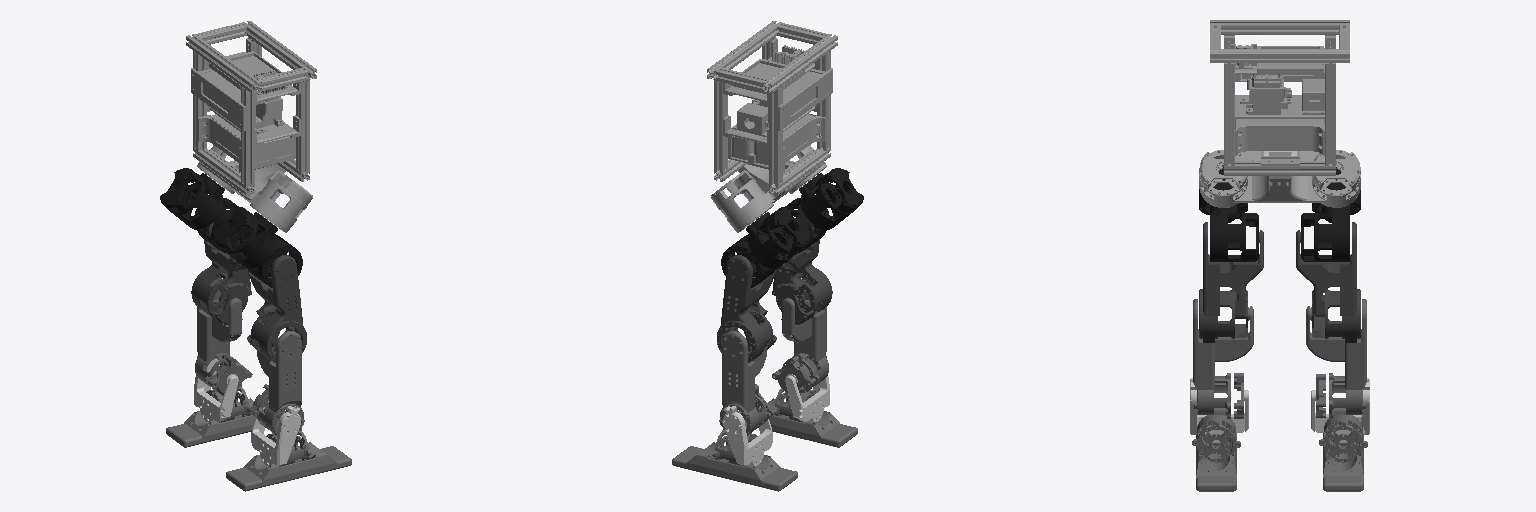
URDF robot description (asmr2026_humanoid):
<?xml version="1.0"?>
<!-- Generated from asmr2026_humanoid.xml by convert_mjcf_to_urdf.py; do not edit. -->
<robot name="asmr2026_humanoid">
  <link name="base">
    <inertial>
      <origin xyz="-0.00352083 -0.00175681 0.66599" rpy="0 0 0" />
      <mass value="5.56725" />
      <inertia ixx="0.0670575" ixy="0.0001353" ixz="0.00148856" iyy="0.0494878" iyz="0.000419932" izz="0.0318557" />
    </inertial>
    <visual name="base_visual">
      <origin xyz="-0.00352083 -0.00175681 0.66599" rpy="0 0 1.57079633" />
      <geometry>
        <mesh filename="../meshes/base_visual.stl" />
      </geometry>
      <material name="base_visual_material">
        <color rgba="0.63235 0.63235 0.63235 1" />
      </material>
    </visual>
    <collision name="base_collision">
      <origin xyz="-0.00106123 -0.00754197 0.668952" rpy="-1.46361453 -1.45495904 -1.67426089" />
      <geometry>
        <box size="0.356102 0.301806 0.1469466" />
      </geometry>
    </collision>
  </link>
  <link name="imu_2">
    <inertial>
      <origin xyz="-0 -0 -0.0054068" rpy="0 0 0" />
      <mass value="0.046" />
      <inertia ixx="9.00897e-06" ixy="0" ixz="-0" iyy="1.05324e-05" iyz="0" izz="1.84346e-05" />
    </inertial>
    <visual name="imu_2_visual">
      <origin xyz="-0 0 -0.0054068" rpy="3.14159265 0 0" />
      <geometry>
        <mesh filename="../meshes/imu_2_visual.stl" />
      </geometry>
      <material name="imu_2_visual_material">
        <color rgba="0.8 0.8 0.8 1" />
      </material>
    </visual>
    <collision name="imu_2_collision">
      <origin xyz="1.47744e-06 5.13569e-07 -0.00599793" rpy="3.1414501 0.00039223857 3.12754523" />
      <geometry>
        <box size="0.060642 0.0478248 0.01202582" />
      </geometry>
    </collision>
  </link>
  <joint name="imu_2_fixed" type="fixed">
    <origin xyz="0.0191473 0.00075234 0.6168" rpy="-3.14159265 0 1.57079633" />
    <parent link="base" />
    <child link="imu_2" />
  </joint>
  <link name="leg_left_hip_roll">
    <inertial>
      <origin xyz="-0.00722021 -0.000256929 -0.0500812" rpy="0 0 0" />
      <mass value="0.610295" />
      <inertia ixx="0.00055326" ixy="3.53433e-06" ixz="-5.44196e-06" iyy="0.000604619" iyz="-2.94674e-06" izz="0.000546565" />
    </inertial>
    <visual name="leg_left_hip_roll_visual">
      <origin xyz="-0.00722021 -0.000256929 -0.0500812" rpy="-0.785398555 0 1.57079633" />
      <geometry>
        <mesh filename="../meshes/leg_left_hip_roll_visual.stl" />
      </geometry>
      <material name="leg_left_hip_roll_visual_material">
        <color rgba="0.157238 0.157238 0.157238 1" />
      </material>
    </visual>
    <collision name="leg_left_hip_roll_collision">
      <origin xyz="-0.0160418 0.00196308 -0.0475174" rpy="-1.26191453 1.27692792 -3.0161296" />
      <geometry>
        <box size="0.115147 0.109264 0.0972172" />
      </geometry>
    </collision>
  </link>
  <link name="leg_left_hip_yaw">
    <inertial>
      <origin xyz="-0.00722046 -0.000122518 -0.0499338" rpy="0 0 0" />
      <mass value="0.610295" />
      <inertia ixx="0.00055344" ixy="-1.38532e-06" ixz="-9.78123e-06" iyy="0.000606803" iyz="6.18155e-06" izz="0.00054454" />
    </inertial>
    <visual name="leg_left_hip_yaw_visual">
      <origin xyz="-0.00722046 -0.000122518 -0.0499338" rpy="0.785397007 0 0" />
      <geometry>
        <mesh filename="../meshes/leg_left_hip_yaw_visual.stl" />
      </geometry>
      <material name="leg_left_hip_yaw_visual_material">
        <color rgba="0.157238 0.157238 0.157238 1" />
      </material>
    </visual>
    <collision name="leg_left_hip_yaw_collision">
      <origin xyz="-0.0161405 -0.000935632 -0.0473143" rpy="-1.8929033 1.23438819 2.88480702" />
      <geometry>
        <box size="0.1171476 0.1087042 0.0908802" />
      </geometry>
    </collision>
  </link>
  <link name="leg_left_hip_pitch">
    <inertial>
      <origin xyz="0.00252783 -0.12575 0.0207946" rpy="0 0 0" />
      <mass value="0.807295" />
      <inertia ixx="0.00224206" ixy="-9.98392e-05" ixz="-1.77873e-05" iyy="0.000866208" iyz="-0.000217269" izz="0.00199188" />
    </inertial>
    <visual name="leg_left_hip_pitch_visual">
      <origin xyz="0.00252783 -0.12575 0.0207946" rpy="-1.57079633 1.57079633 0" />
      <geometry>
        <mesh filename="../meshes/leg_left_hip_pitch_visual.stl" />
      </geometry>
      <material name="leg_left_hip_pitch_visual_material">
        <color rgba="0.318052 0.318052 0.318052 1" />
      </material>
    </visual>
    <collision name="leg_left_hip_pitch_collision">
      <origin xyz="0.0024372525 -0.0865321 0.03983735" rpy="-1.51428364 0.0382554422 -0.0361528608" />
      <geometry>
        <cylinder radius="0.0557908" length="0.109294116" />
      </geometry>
    </collision>
  </link>
  <link name="leg_left_knee_pitch">
    <inertial>
      <origin xyz="6.22457e-05 -0.124552 0.0278013" rpy="0 0 0" />
      <mass value="0.57817" />
      <inertia ixx="0.00186301" ixy="-2.9198e-06" ixz="-1.32344e-06" iyy="0.000528282" iyz="6.56245e-05" izz="0.00162163" />
    </inertial>
    <visual name="leg_left_knee_pitch_visual">
      <origin xyz="6.22457e-05 -0.124552 0.0278013" rpy="-1.57079633 1.57079633 0" />
      <geometry>
        <mesh filename="../meshes/leg_left_knee_pitch_visual.stl" />
      </geometry>
      <material name="leg_left_knee_pitch_visual_material">
        <color rgba="0.444297 0.444297 0.444297 1" />
      </material>
    </visual>
    <collision name="leg_left_knee_pitch_collision">
      <origin xyz="0.000413485 -0.0881688 0.03598395" rpy="-1.34754043 0.00179248437 -0.00143113622" />
      <geometry>
        <cylinder radius="0.0690285" length="0.0862367816" />
      </geometry>
    </collision>
  </link>
  <link name="leg_left_ankle_pitch">
    <inertial>
      <origin xyz="0.0141965 0.0452964 0.0278678" rpy="0 0 0" />
      <mass value="0.087" />
      <inertia ixx="0.000198924" ixy="-2.42192e-05" ixz="-1.00666e-05" iyy="0.000125207" iyz="-2.69091e-05" izz="9.87061e-05" />
    </inertial>
    <visual name="leg_left_ankle_pitch_visual">
      <origin xyz="0.0141965 0.0452964 0.0278678" rpy="1.57079633 1.57079633 0" />
      <geometry>
        <mesh filename="../meshes/leg_left_ankle_pitch_visual.stl" />
      </geometry>
      <material name="leg_left_ankle_pitch_visual_material">
        <color rgba="0.8 0.8 0.8 1" />
      </material>
    </visual>
  </link>
  <link name="leg_left_ankle_roll">
    <inertial>
      <origin xyz="0.000136733 -0.0183044 -0.0345478" rpy="0 0 0" />
      <mass value="0.60417" />
      <inertia ixx="0.00162401" ixy="-2.7862e-06" ixz="2.97019e-06" iyy="0.00151979" iyz="-3.38617e-05" izz="0.000543053" />
    </inertial>
    <visual name="leg_left_ankle_roll_visual">
      <origin xyz="0.000136733 -0.0183044 -0.0345478" rpy="1.57079633 0 3.14159265" />
      <geometry>
        <mesh filename="../meshes/leg_left_ankle_roll_visual.stl" />
      </geometry>
      <material name="leg_left_ankle_roll_visual_material">
        <color rgba="0.459604 0.459604 0.459604 1" />
      </material>
    </visual>
    <collision name="left_foot_collision">
      <origin xyz="0 -0.042004 -0.03675" rpy="-1.57079633 1.57079633 0" />
      <geometry>
        <box size="0.22 0.08 0.016" />
      </geometry>
    </collision>
  </link>
  <joint name="leg_left_ankle_roll_joint" type="revolute">
    <origin xyz="0.016 0.075 0.0355" rpy="-3.14159265 -1.57079633 0" />
    <parent link="leg_left_ankle_pitch" />
    <child link="leg_left_ankle_roll" />
    <axis xyz="0 0 1" />
    <limit lower="-0.261799388" upper="0.261799388" effort="22.572" velocity="20.943951" />
  </joint>
  <joint name="leg_left_ankle_pitch_joint" type="revolute">
    <origin xyz="-0 -0.16 -0.003" rpy="0 0 3.14159265" />
    <parent link="leg_left_knee_pitch" />
    <child link="leg_left_ankle_pitch" />
    <axis xyz="0 0 1" />
    <limit lower="-1.04719755" upper="0.523598776" effort="22.572" velocity="20.943951" />
  </joint>
  <joint name="leg_left_knee_pitch_joint" type="revolute">
    <origin xyz="-0 -0.15 -0.018" rpy="-0 0 0" />
    <parent link="leg_left_hip_pitch" />
    <child link="leg_left_knee_pitch" />
    <axis xyz="0 0 1" />
    <limit lower="-2.44346095" upper="0" effort="18.09" velocity="20.943951" />
  </joint>
  <joint name="leg_left_hip_pitch_joint" type="revolute">
    <origin xyz="0.027 0 -0.052" rpy="1.57079633 0.785397772 -1.57079633" />
    <parent link="leg_left_hip_yaw" />
    <child link="leg_left_hip_pitch" />
    <axis xyz="0 0 1" />
    <limit lower="-0.981747704" upper="1.89804556" effort="18.09" velocity="20.943951" />
  </joint>
  <joint name="leg_left_hip_yaw_joint" type="revolute">
    <origin xyz="0.027 0 -0.052" rpy="-1.57079633 0 1.57079633" />
    <parent link="leg_left_hip_roll" />
    <child link="leg_left_hip_yaw" />
    <axis xyz="0 0 1" />
    <limit lower="-0.589048623" upper="0.981747704" effort="18.09" velocity="20.943951" />
  </joint>
  <joint name="leg_left_hip_roll_joint" type="revolute">
    <origin xyz="-0.0234602 0.1 0.531785" rpy="0 0.785398555 0" />
    <parent link="base" />
    <child link="leg_left_hip_roll" />
    <axis xyz="0 0 1" />
    <limit lower="-0.174532925" upper="1.57079633" effort="18.09" velocity="20.943951" />
  </joint>
  <link name="leg_right_hip_roll">
    <inertial>
      <origin xyz="0.00722021 -0.000300588 -0.0503005" rpy="0 0 0" />
      <mass value="0.610295" />
      <inertia ixx="0.00055373" ixy="-2.42761e-06" ixz="1.10065e-05" iyy="0.000604124" iyz="-5.3207e-06" izz="0.000547529" />
    </inertial>
    <visual name="leg_right_hip_roll_visual">
      <origin xyz="0.00722021 -0.000300588 -0.0503005" rpy="-0.785398555 0 -1.57079633" />
      <geometry>
        <mesh filename="../meshes/leg_right_hip_roll_visual.stl" />
      </geometry>
      <material name="leg_right_hip_roll_visual_material">
        <color rgba="0.157238 0.157238 0.157238 1" />
      </material>
    </visual>
    <collision name="leg_right_hip_roll_collision">
      <origin xyz="0.0150512 0.00205559 -0.0479875" rpy="-1.21259823 -1.12137281 2.9918791" />
      <geometry>
        <box size="0.1219106 0.1149576 0.0973052" />
      </geometry>
    </collision>
  </link>
  <link name="leg_right_hip_yaw">
    <inertial>
      <origin xyz="0.00722046 -7.89313e-05 -0.0501531" rpy="0 0 0" />
      <mass value="0.610295" />
      <inertia ixx="0.000553969" ixy="2.78338e-07" ixz="1.53457e-05" iyy="0.000608306" iyz="3.88396e-06" izz="0.000543566" />
    </inertial>
    <visual name="leg_right_hip_yaw_visual">
      <origin xyz="0.00722046 -7.89313e-05 -0.0501531" rpy="0.785397007 0 0" />
      <geometry>
        <mesh filename="../meshes/leg_right_hip_yaw_visual.stl" />
      </geometry>
      <material name="leg_right_hip_yaw_visual_material">
        <color rgba="0.157238 0.157238 0.157238 1" />
      </material>
    </visual>
    <collision name="leg_right_hip_yaw_collision">
      <origin xyz="0.0153311 0.000405498 -0.0477029" rpy="-1.65007005 -1.11351464 -3.0037752" />
      <geometry>
        <box size="0.1221652 0.114179 0.0919244" />
      </geometry>
    </collision>
  </link>
  <link name="leg_right_hip_pitch">
    <inertial>
      <origin xyz="0.00258367 0.125619 0.0207943" rpy="0 0 0" />
      <mass value="0.807295" />
      <inertia ixx="0.00223805" ixy="9.67368e-05" ixz="-1.94704e-05" iyy="0.00086419" iyz="0.000221203" izz="0.00198597" />
    </inertial>
    <visual name="leg_right_hip_pitch_visual">
      <origin xyz="0.00258367 0.125619 0.0207943" rpy="1.57079633 -1.57079633 0" />
      <geometry>
        <mesh filename="../meshes/leg_right_hip_pitch_visual.stl" />
      </geometry>
      <material name="leg_right_hip_pitch_visual_material">
        <color rgba="0.318052 0.318052 0.318052 1" />
      </material>
    </visual>
    <collision name="leg_right_hip_pitch_collision">
      <origin xyz="0.0024898055 0.08716145 0.0387712" rpy="-1.64237552 -0.0332833962 0.0357548112" />
      <geometry>
        <cylinder radius="0.0565046" length="0.107901009" />
      </geometry>
    </collision>
  </link>
  <link name="leg_right_knee_pitch">
    <inertial>
      <origin xyz="-6.22888e-05 -0.124369 0.0278013" rpy="0 0 0" />
      <mass value="0.57817" />
      <inertia ixx="0.00185546" ixy="-6.05359e-06" ixz="1.32378e-06" iyy="0.000528282" iyz="6.12963e-05" izz="0.00161408" />
    </inertial>
    <visual name="leg_right_knee_pitch_visual">
      <origin xyz="-6.22888e-05 -0.124369 0.0278013" rpy="-1.57079633 -1.57079633 0" />
      <geometry>
        <mesh filename="../meshes/leg_right_knee_pitch_visual.stl" />
      </geometry>
      <material name="leg_right_knee_pitch_visual_material">
        <color rgba="0.444297 0.444297 0.444297 1" />
      </material>
    </visual>
    <collision name="leg_right_knee_pitch_collision">
      <origin xyz="0.000460025 -0.0881596 0.0359653" rpy="-1.3470153 0.00226948074 -0.00181099914" />
      <geometry>
        <cylinder radius="0.0690617" length="0.0861942403" />
      </geometry>
    </collision>
  </link>
  <link name="leg_right_ankle_pitch">
    <inertial>
      <origin xyz="0.014184 -0.0453748 0.027822" rpy="0 0 0" />
      <mass value="0.087" />
      <inertia ixx="0.000198839" ixy="2.4114e-05" ixz="-1.00515e-05" iyy="0.000125178" iyz="2.65778e-05" izz="9.85782e-05" />
    </inertial>
    <visual name="leg_right_ankle_pitch_visual">
      <origin xyz="0.014184 -0.0453748 0.027822" rpy="-1.57079633 -1.57079633 0" />
      <geometry>
        <mesh filename="../meshes/leg_right_ankle_pitch_visual.stl" />
      </geometry>
      <material name="leg_right_ankle_pitch_visual_material">
        <color rgba="0.8 0.8 0.8 1" />
      </material>
    </visual>
  </link>
  <link name="leg_right_ankle_roll">
    <inertial>
      <origin xyz="0.000136733 -0.0183044 -0.0345478" rpy="0 0 0" />
      <mass value="0.60417" />
      <inertia ixx="0.00162401" ixy="-2.7862e-06" ixz="2.97019e-06" iyy="0.00151979" iyz="-3.38617e-05" izz="0.000543053" />
    </inertial>
    <visual name="leg_right_ankle_roll_visual">
      <origin xyz="0.000136733 -0.0183044 -0.0345478" rpy="1.57079633 0 -3.14159265" />
      <geometry>
        <mesh filename="../meshes/leg_right_ankle_roll_visual.stl" />
      </geometry>
      <material name="leg_right_ankle_roll_visual_material">
        <color rgba="0.459604 0.459604 0.459604 1" />
      </material>
    </visual>
    <collision name="right_foot_collision">
      <origin xyz="0 -0.042004 -0.03675" rpy="-1.57079633 1.57079633 0" />
      <geometry>
        <box size="0.22 0.08 0.016" />
      </geometry>
    </collision>
  </link>
  <joint name="leg_right_ankle_roll_joint" type="revolute">
    <origin xyz="0.016 -0.075 0.0355" rpy="-0 1.57079633 0" />
    <parent link="leg_right_ankle_pitch" />
    <child link="leg_right_ankle_roll" />
    <axis xyz="0 0 1" />
    <limit lower="-0.261799388" upper="0.261799388" effort="22.572" velocity="20.943951" />
  </joint>
  <joint name="leg_right_ankle_pitch_joint" type="revolute">
    <origin xyz="0 -0.16 -0.003" rpy="0 0 0" />
    <parent link="leg_right_knee_pitch" />
    <child link="leg_right_ankle_pitch" />
    <axis xyz="0 0 1" />
    <limit lower="-0.523598776" upper="1.04719755" effort="22.572" velocity="20.943951" />
  </joint>
  <joint name="leg_right_knee_pitch_joint" type="revolute">
    <origin xyz="-0 0.15 -0.018" rpy="0 0 -3.14159265" />
    <parent link="leg_right_hip_pitch" />
    <child link="leg_right_knee_pitch" />
    <axis xyz="0 0 1" />
    <limit lower="0" upper="2.44346095" effort="18.09" velocity="20.943951" />
  </joint>
  <joint name="leg_right_hip_pitch_joint" type="revolute">
    <origin xyz="-0.027 0 -0.052" rpy="-1.57079633 0.785397772 -1.57079633" />
    <parent link="leg_right_hip_yaw" />
    <child link="leg_right_hip_pitch" />
    <axis xyz="0 0 1" />
    <limit lower="-1.89804556" upper="0.981747704" effort="18.09" velocity="20.943951" />
  </joint>
  <joint name="leg_right_hip_yaw_joint" type="revolute">
    <origin xyz="-0.027 0 -0.052" rpy="-1.57079633 0 -1.57079633" />
    <parent link="leg_right_hip_roll" />
    <child link="leg_right_hip_yaw" />
    <axis xyz="0 0 1" />
    <limit lower="-0.981747704" upper="0.589048623" effort="18.09" velocity="20.943951" />
  </joint>
  <joint name="leg_right_hip_roll_joint" type="revolute">
    <origin xyz="-0.0234602 -0.1 0.531785" rpy="0 -0.785398555 3.14159265" />
    <parent link="base" />
    <child link="leg_right_hip_roll" />
    <axis xyz="0 0 1" />
    <limit lower="-1.57079633" upper="0.174532925" effort="18.09" velocity="20.943951" />
  </joint>
</robot>

--- Facts derived from the render (not from the file) ---
The picture shows the robot from 3 angles, left to right: view 1: azimuth 30°, elevation 25°; view 2: azimuth 150°, elevation 25°; view 3: azimuth 270°, elevation 25°; orthographic projection.
Model asmr2026_humanoid with 14 links and 13 joints (12 revolute, 1 fixed), rooted at base, posed every joint at zero.
Visible links, largest first — view 1: base, leg_right_hip_pitch, leg_right_knee_pitch, leg_left_knee_pitch, leg_right_ankle_roll, leg_left_hip_pitch, leg_right_hip_roll, leg_left_hip_roll, leg_left_ankle_roll, leg_right_ankle_pitch, leg_left_ankle_pitch, leg_right_hip_yaw (+1 smaller); view 2: base, leg_left_hip_pitch, leg_left_knee_pitch, leg_right_knee_pitch, leg_left_ankle_roll, leg_right_hip_pitch, leg_left_hip_roll, leg_right_hip_roll, leg_right_ankle_roll, leg_left_ankle_pitch, leg_right_ankle_pitch, leg_left_hip_yaw (+1 smaller); view 3: base, leg_left_hip_pitch, leg_right_hip_pitch, leg_left_knee_pitch, leg_right_knee_pitch, leg_left_ankle_roll, leg_right_ankle_roll, leg_left_hip_yaw, leg_right_hip_yaw, leg_left_ankle_pitch, leg_right_ankle_pitch.
Boxes of the visible links, left/top/right/bottom form: base: left=186, top=21, right=316, bottom=232; leg_right_hip_pitch: left=247, top=255, right=306, bottom=362; leg_right_knee_pitch: left=247, top=323, right=304, bottom=435; leg_left_knee_pitch: left=195, top=278, right=252, bottom=395; leg_right_ankle_roll: left=226, top=427, right=351, bottom=491; leg_left_hip_pitch: left=191, top=222, right=251, bottom=324; leg_right_hip_roll: left=213, top=207, right=277, bottom=268; leg_left_hip_roll: left=160, top=168, right=224, bottom=229; leg_left_ankle_roll: left=166, top=383, right=284, bottom=447; leg_right_ankle_pitch: left=251, top=401, right=300, bottom=466; leg_left_ankle_pitch: left=194, top=358, right=238, bottom=422; leg_right_hip_yaw: left=244, top=233, right=302, bottom=287; base: left=707, top=21, right=837, bottom=232; leg_left_hip_pitch: left=717, top=255, right=776, bottom=362; leg_left_knee_pitch: left=719, top=323, right=776, bottom=435; leg_right_knee_pitch: left=772, top=278, right=828, bottom=398; leg_left_ankle_roll: left=672, top=429, right=797, bottom=491; leg_right_hip_pitch: left=772, top=222, right=832, bottom=324; leg_left_hip_roll: left=746, top=207, right=810, bottom=268; leg_right_hip_roll: left=799, top=168, right=863, bottom=229; leg_right_ankle_roll: left=739, top=388, right=857, bottom=447; leg_left_ankle_pitch: left=723, top=401, right=772, bottom=466; leg_right_ankle_pitch: left=785, top=358, right=829, bottom=422; leg_left_hip_yaw: left=721, top=233, right=779, bottom=287; base: left=1199, top=20, right=1360, bottom=207; leg_left_hip_pitch: left=1296, top=222, right=1360, bottom=342; leg_right_hip_pitch: left=1199, top=222, right=1263, bottom=342; leg_left_knee_pitch: left=1306, top=299, right=1366, bottom=417; leg_right_knee_pitch: left=1193, top=299, right=1253, bottom=418; leg_left_ankle_roll: left=1319, top=415, right=1367, bottom=491; leg_right_ankle_roll: left=1192, top=415, right=1240, bottom=491; leg_left_hip_yaw: left=1301, top=206, right=1349, bottom=261; leg_right_hip_yaw: left=1210, top=206, right=1258, bottom=261; leg_left_ankle_pitch: left=1311, top=378, right=1369, bottom=442; leg_right_ankle_pitch: left=1190, top=378, right=1248, bottom=442.
Size in the robot's own frame: 0.2657 by 0.32 by 0.8296 metres.
Meshes: 14 distinct files referenced, 14 mesh visuals loaded (14 binary STL).
